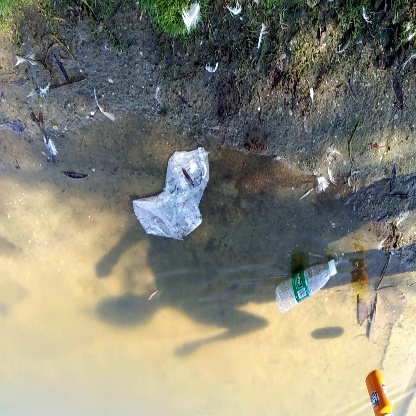bottle: (280, 256, 341, 316), (355, 360, 397, 416)
plastic-bag: (130, 146, 214, 241)
